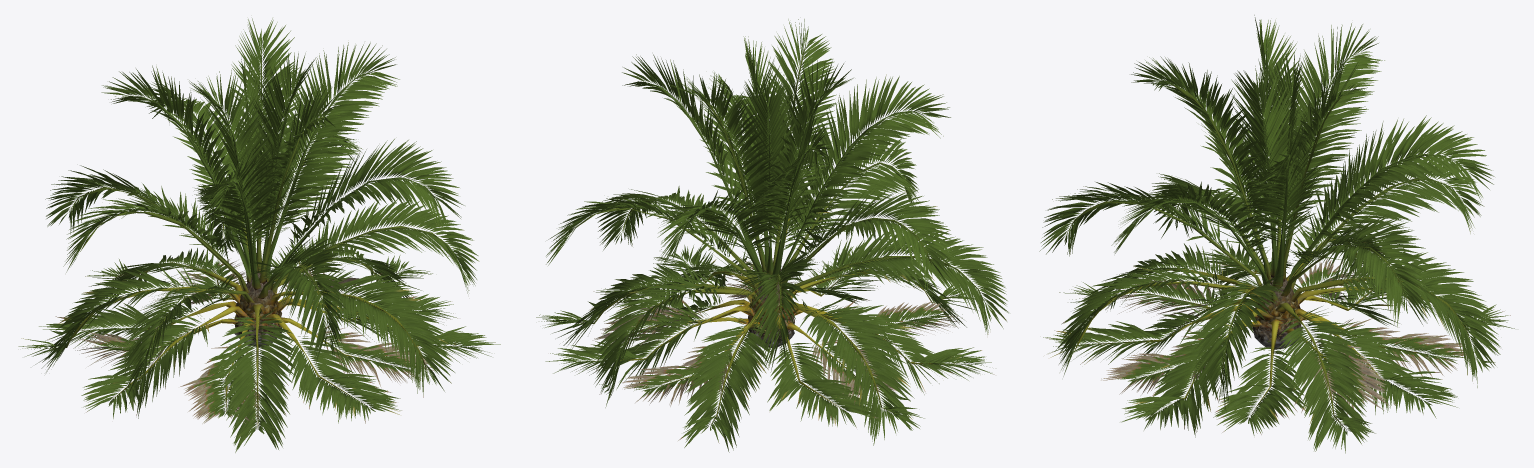
The model's file is palma-kanarska.glb.
3 views of the same model, side by side, from view 1: azimuth 30°, elevation 25°; view 2: azimuth 150°, elevation 25°; view 3: azimuth 270°, elevation 25° (orthographic). The views are drawn at different scales.
Parts seen in each view (by area): view 1: palma; view 2: palma; view 3: palma.
Part boxes in pixels (x1,y1,x2,y2): palma: (18,18,500,452); palma: (536,19,1008,452); palma: (1039,15,1514,453).
Size of the model in its own units: 3.17 by 2.33 by 3.12.
Materials: 10 (10 with a texture image).
